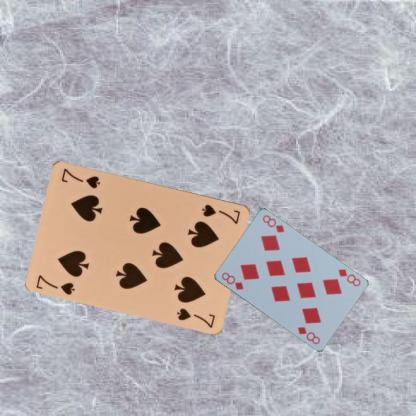7s: (33, 272, 77, 296), (199, 201, 242, 225)
8d: (335, 266, 362, 288), (218, 269, 244, 291)
